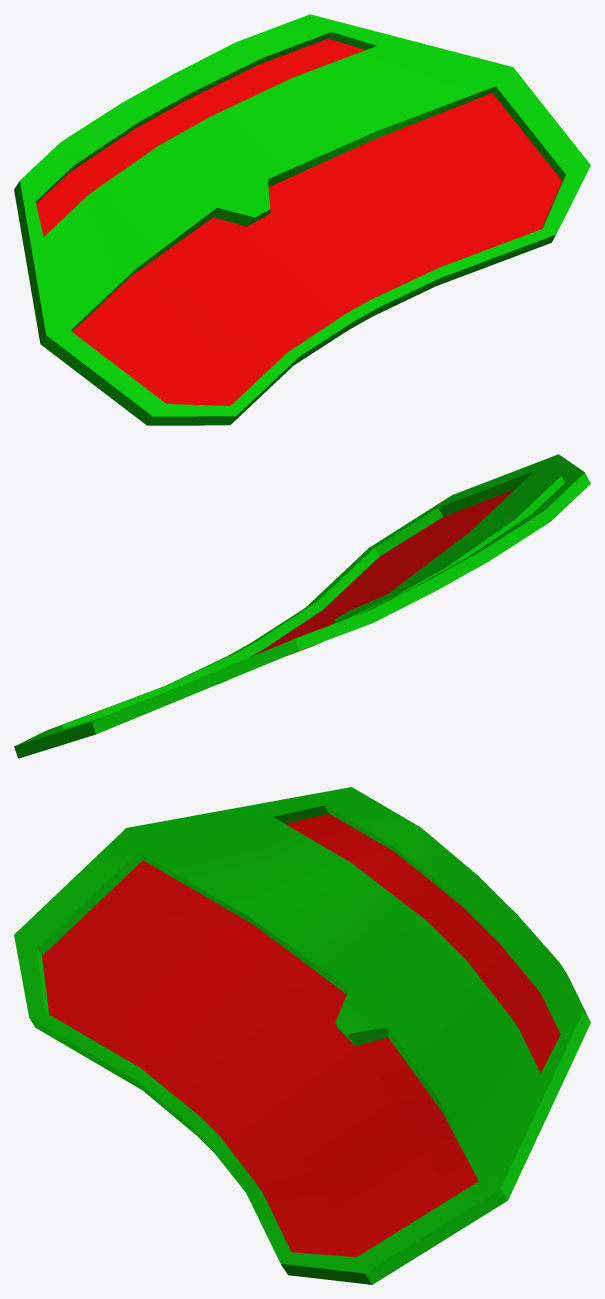
The model's file is Barrier_Inward.fbx.
3 views of the same model, one above another, from view 1: azimuth 30°, elevation 25°; view 2: azimuth 210°, elevation 25°; view 3: azimuth 270°, elevation 25° (orthographic). The views are drawn at different scales.
Parts seen in each view (by area): view 1: pCube8; view 2: pCube8; view 3: pCube8.
Boxes of the visible parts, x1,y1,x2,y2 form: pCube8: (14,14,590,425); pCube8: (14,454,590,758); pCube8: (14,787,590,1284).
Size of the model in its own units: 1976 by 483 by 1285.
